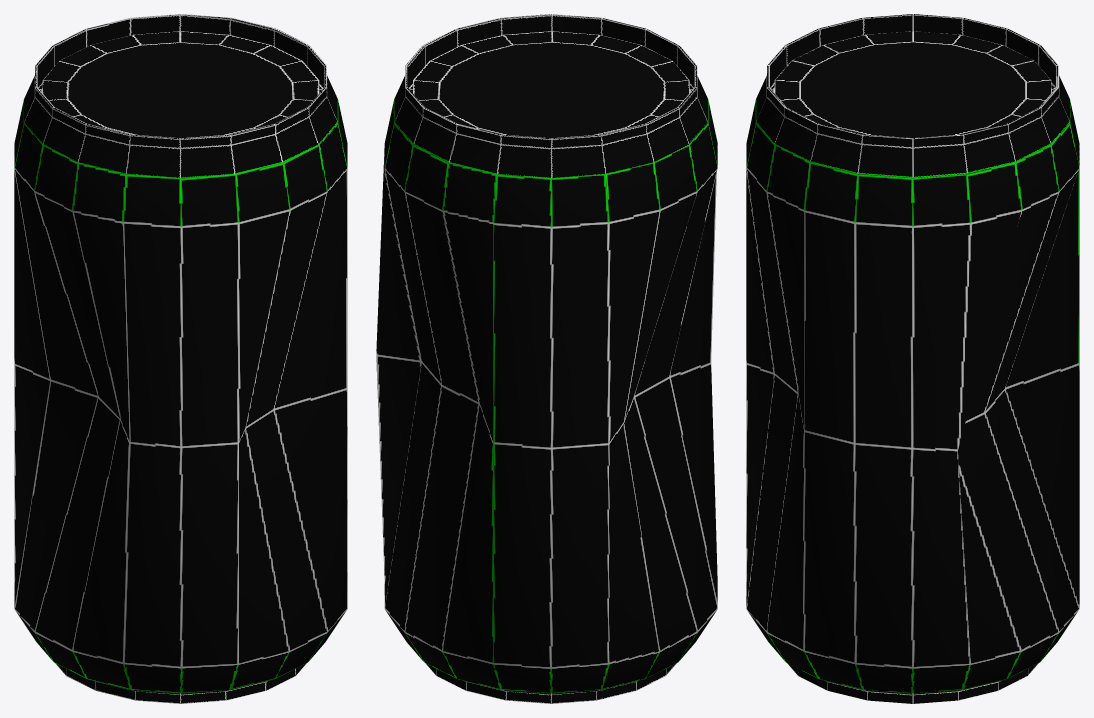
File: lata_pivot.FBX
The picture shows the model from 3 angles, left to right: view 1: azimuth 30°, elevation 25°; view 2: azimuth 150°, elevation 25°; view 3: azimuth 270°, elevation 25°; orthographic projection.
Visible parts, largest first — view 1: SodaCan; view 2: SodaCan; view 3: SodaCan.
Boxes of the visible parts, box(x1,y1,x2,y2) form: SodaCan: box(14, 14, 347, 703); SodaCan: box(376, 14, 717, 703); SodaCan: box(746, 14, 1079, 703).
Bounding box in the file's own units: 26.52 × 48.43 × 25.59.
